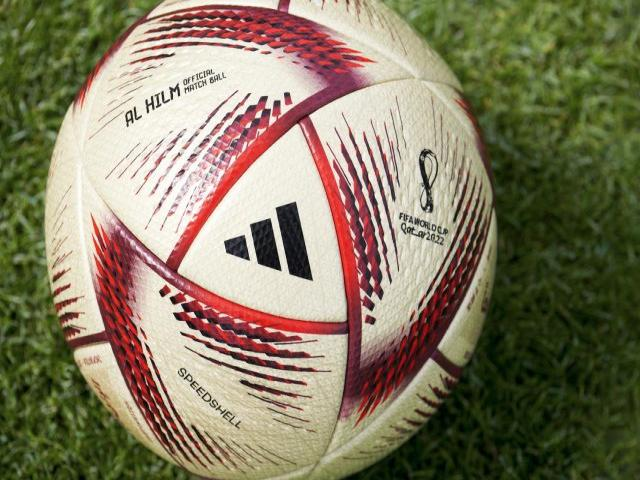round ball: (46, 0, 496, 480)
